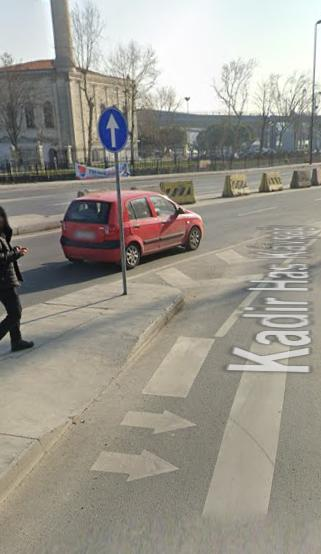forward: (97, 107, 128, 150)
